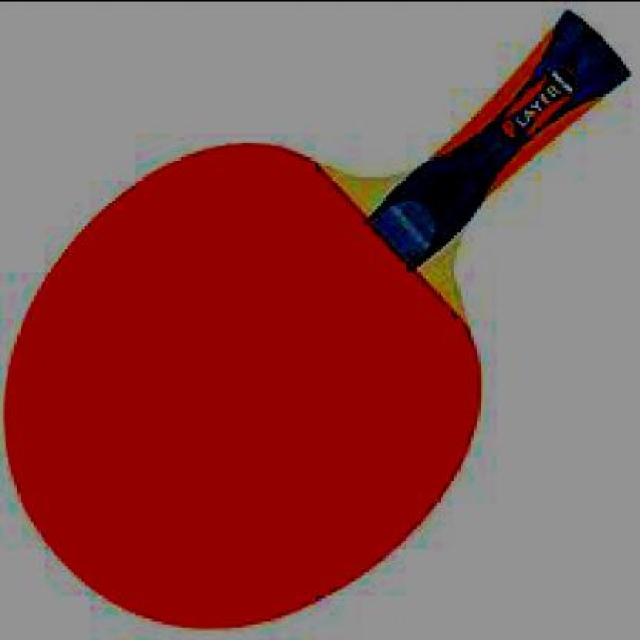table_tennis_racket: (0, 11, 632, 634)
